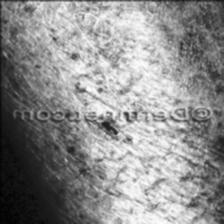Non-Cancerous Skin Condition: (0, 0, 184, 93), (57, 120, 167, 176), (179, 150, 224, 224)
